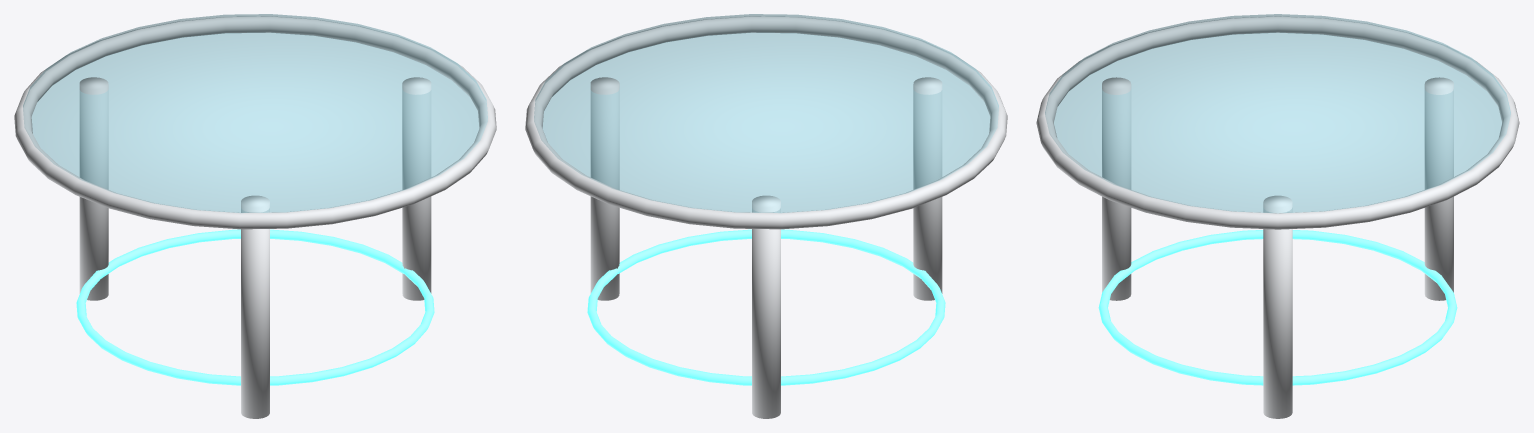
The model's file is coffee_table_glass_ring.glb.
3 renders of one model, left to right at view 1: azimuth 30°, elevation 25°; view 2: azimuth 150°, elevation 25°; view 3: azimuth 270°, elevation 25°, orthographic.
Parts seen in each view (by area): view 1: GD_coffee_table_glass_ring__m0, GD_coffee_table_glass_ring__m1, GD_coffee_table_glass_ring__m2; view 2: GD_coffee_table_glass_ring__m0, GD_coffee_table_glass_ring__m1, GD_coffee_table_glass_ring__m2; view 3: GD_coffee_table_glass_ring__m0, GD_coffee_table_glass_ring__m1, GD_coffee_table_glass_ring__m2.
Part boxes in pixels (left/top/right/bottom): GD_coffee_table_glass_ring__m0: left=23, top=14, right=487, bottom=212; GD_coffee_table_glass_ring__m1: left=14, top=16, right=496, bottom=418; GD_coffee_table_glass_ring__m2: left=76, top=229, right=434, bottom=385; GD_coffee_table_glass_ring__m0: left=534, top=14, right=998, bottom=212; GD_coffee_table_glass_ring__m1: left=525, top=16, right=1007, bottom=418; GD_coffee_table_glass_ring__m2: left=587, top=229, right=945, bottom=385; GD_coffee_table_glass_ring__m0: left=1045, top=14, right=1510, bottom=213; GD_coffee_table_glass_ring__m1: left=1036, top=16, right=1519, bottom=418; GD_coffee_table_glass_ring__m2: left=1098, top=230, right=1457, bottom=385.
Bounding box in the file's own units: 0.83 × 0.42 × 0.83.
